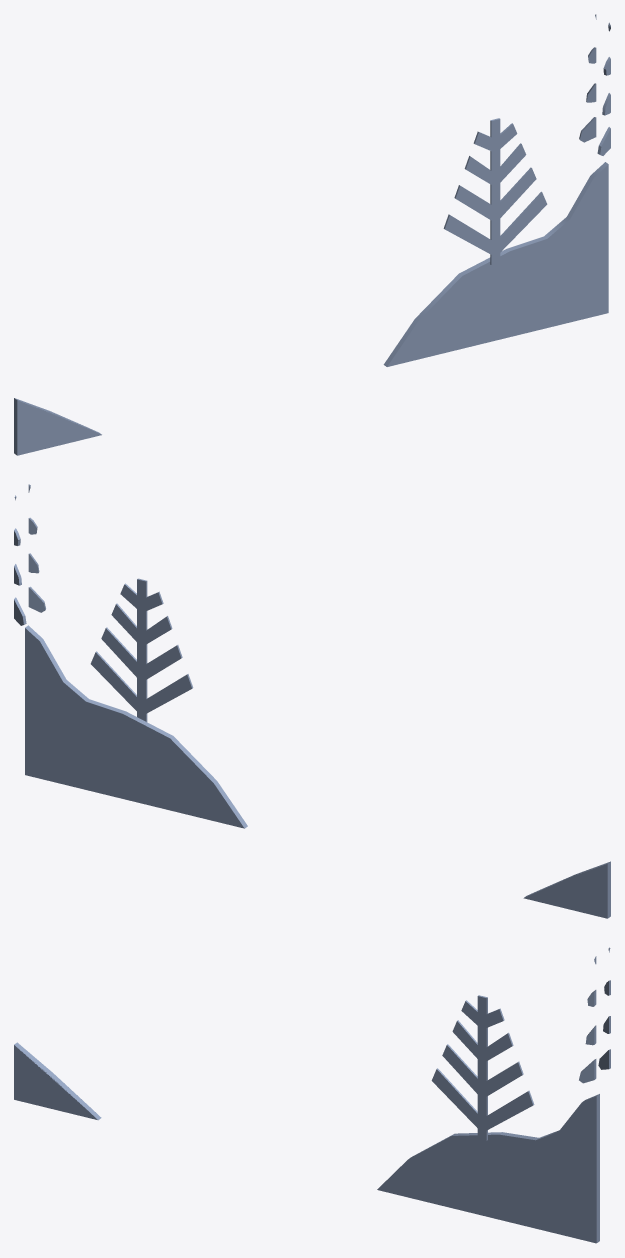
Rendered from frame_0154.glb.
3 views of the same model, one above another, from view 1: azimuth 30°, elevation 25°; view 2: azimuth 150°, elevation 25°; view 3: azimuth 330°, elevation 25° (orthographic).
Parts seen in each view (by area): view 1: export_trees_001.002; view 2: export_trees_001.002; view 3: export_trees_001.002.
Boxes of the visible parts, x1,y1,x2,y2 form: export_trees_001.002: (14,14,610,455); export_trees_001.002: (14,484,610,918); export_trees_001.002: (14,947,610,1243).
Size of the model in its own units: 0.4327 by 0.204 by 0.0277.
